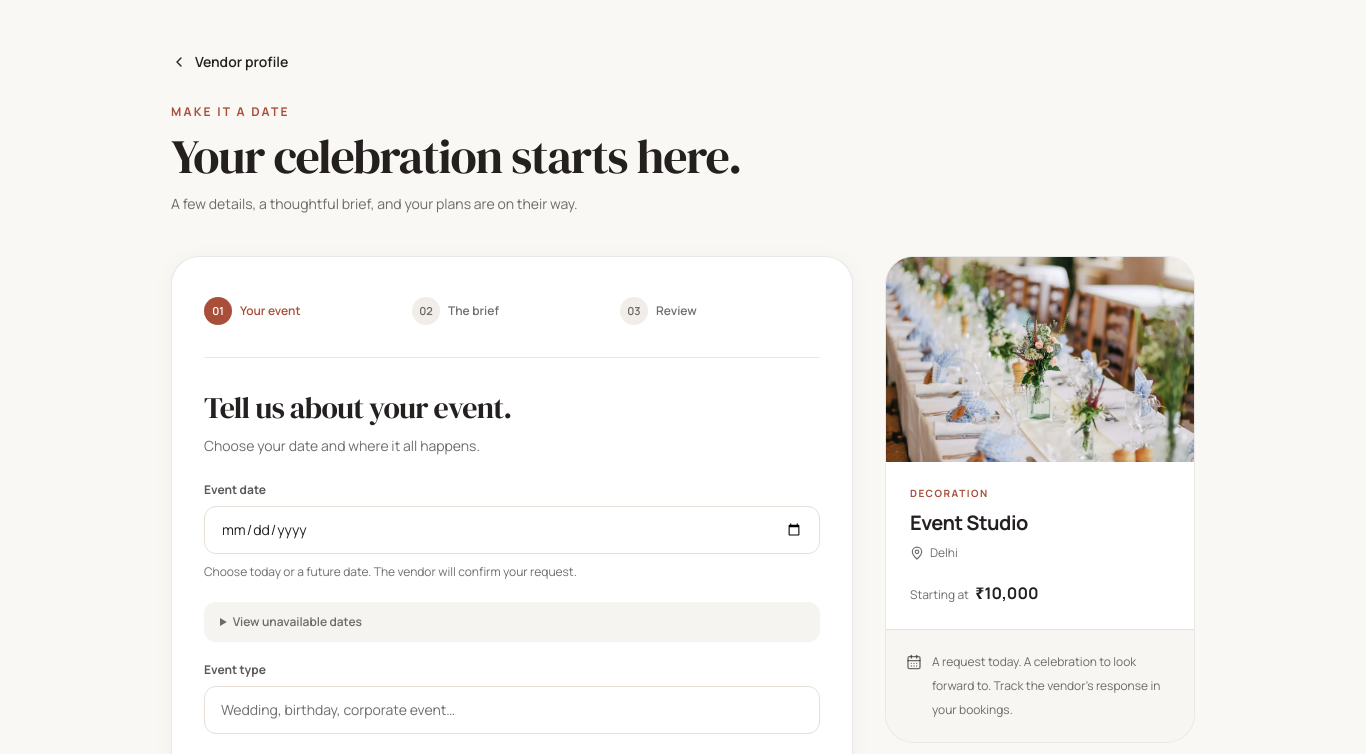
Test: booking request › disables a request for unavailable date 2027-02-02
The image size is (1366, 754).
Type "2027-02-02" into the date field labelled "Event date" at (512, 530), box 204,506 -> 820,554
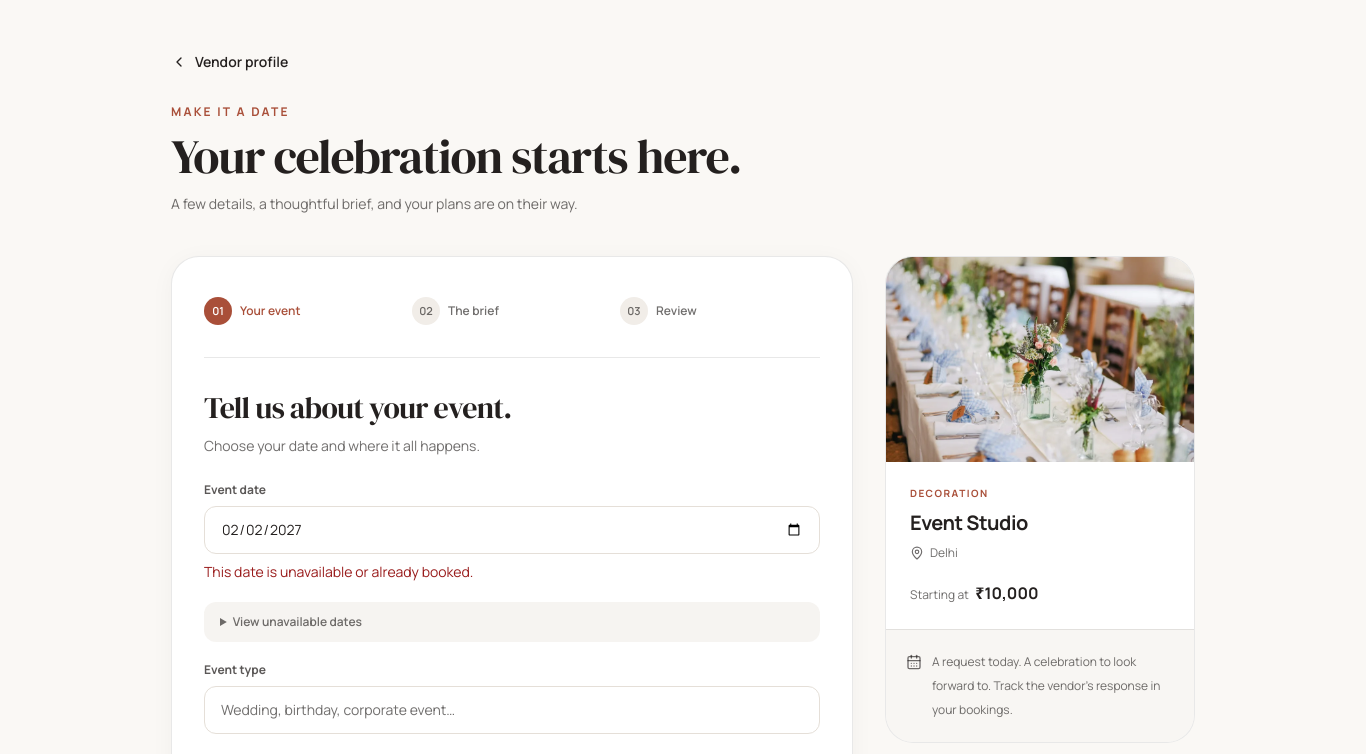
expect the message reads "This date is unavailable or already booked.": met, box 204,562 -> 473,581
